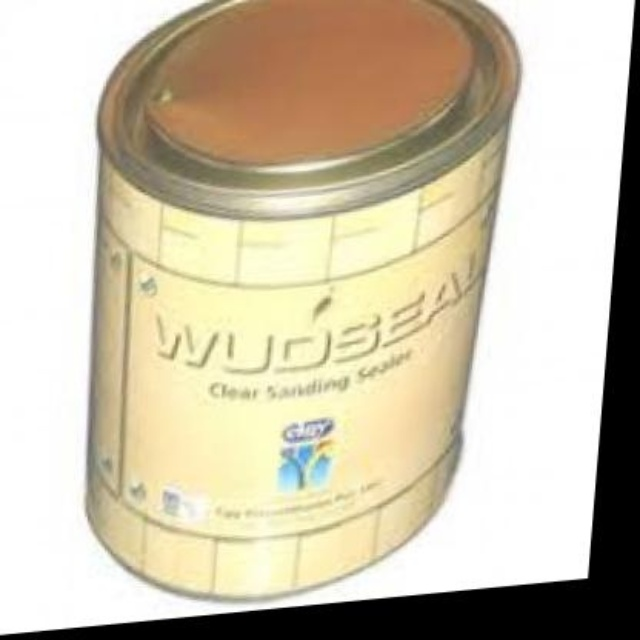trash: (88, 0, 517, 597)
